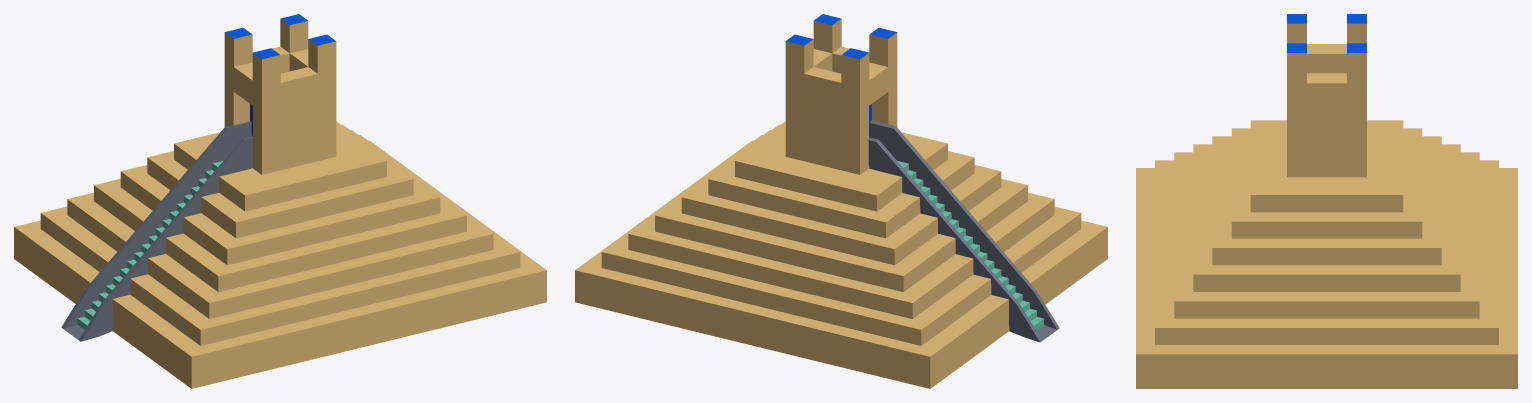
3 views of the same model, side by side, from view 1: azimuth 30°, elevation 25°; view 2: azimuth 150°, elevation 25°; view 3: azimuth 270°, elevation 25° (orthographic). The views are drawn at different scales.
Visible parts, largest first — view 1: Cube; view 2: Cube; view 3: Cube.
Boxes of the visible parts, box(x1,y1,x2,y2) form: Cube: box(14, 14, 546, 388); Cube: box(575, 14, 1107, 388); Cube: box(1136, 14, 1517, 388).
Size of what is drawn, in the model's own units: 3819 by 2454 by 3038.
